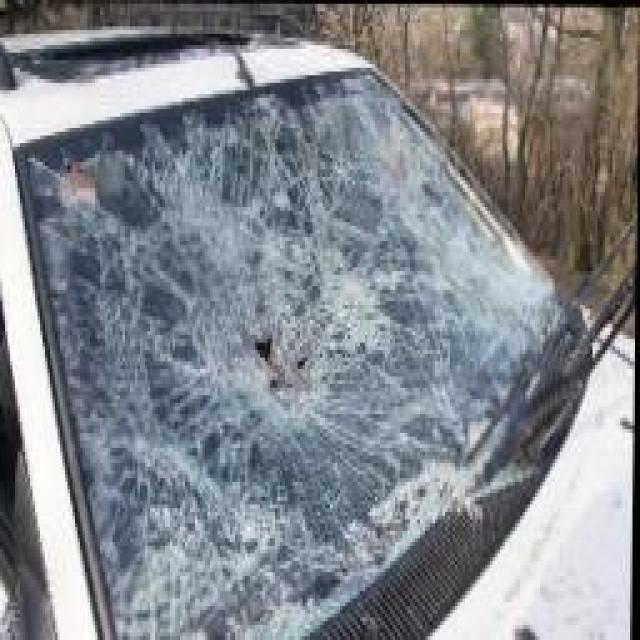Windshield: (0, 60, 639, 619)
